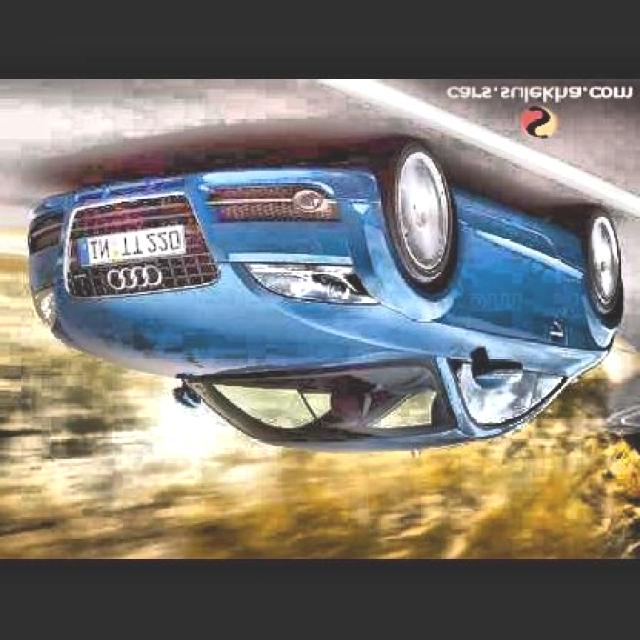blue: (28, 137, 625, 455)
